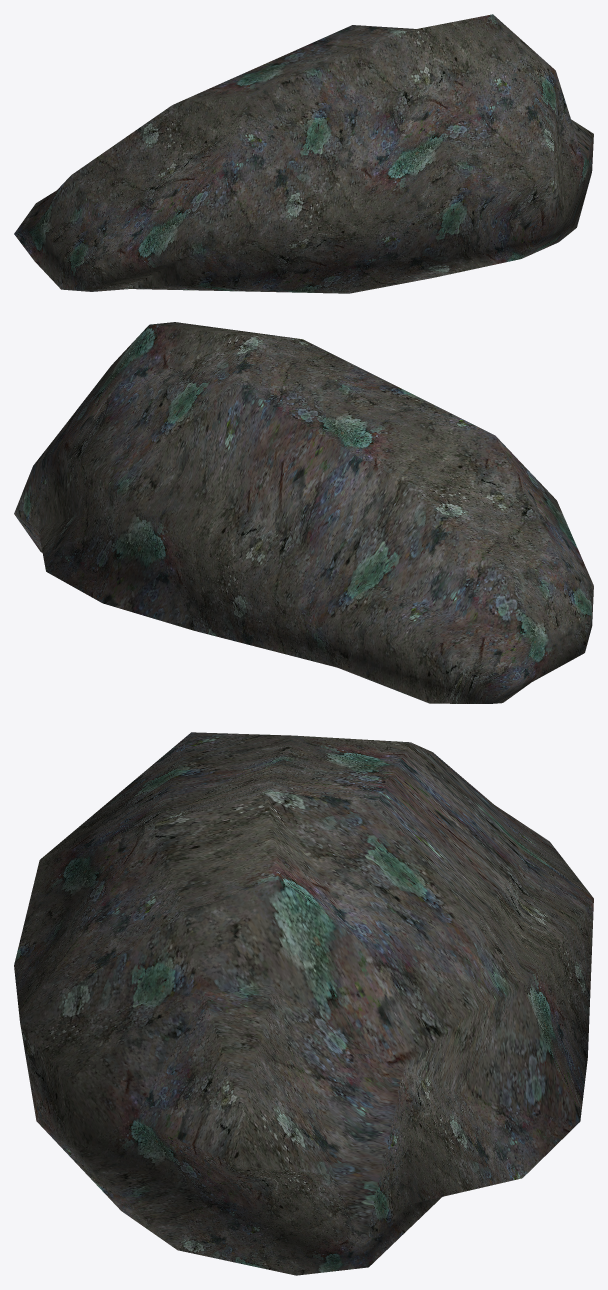
The model's file is rock_forestriverrock_med_l2.fbx.
3 views of the same model, one above another, from view 1: azimuth 30°, elevation 25°; view 2: azimuth 150°, elevation 25°; view 3: azimuth 270°, elevation 25° (orthographic). The views are drawn at different scales.
Visible parts, largest first — view 1: mesh_node; view 2: mesh_node; view 3: mesh_node.
Boxes of the visible parts, x1,y1,x2,y2 form: mesh_node: (14,14,593,293); mesh_node: (14,322,593,703); mesh_node: (14,732,593,1275).
Size of the model in its own units: 1.71 by 0.7008 by 1.03.
Materials: 1 (1 with a texture image).
